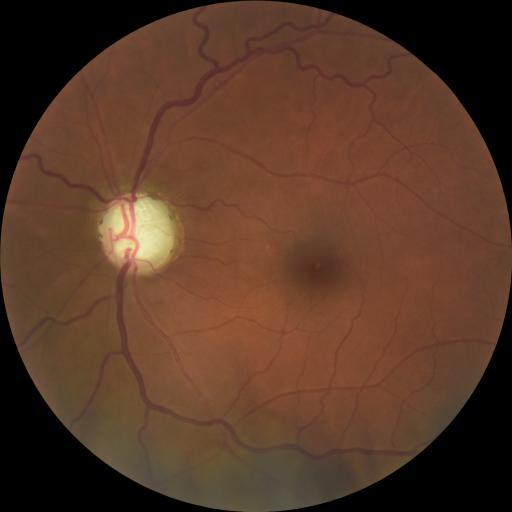Optic Cup: (115, 198, 166, 259)
Optic Disc: (97, 190, 184, 274)
